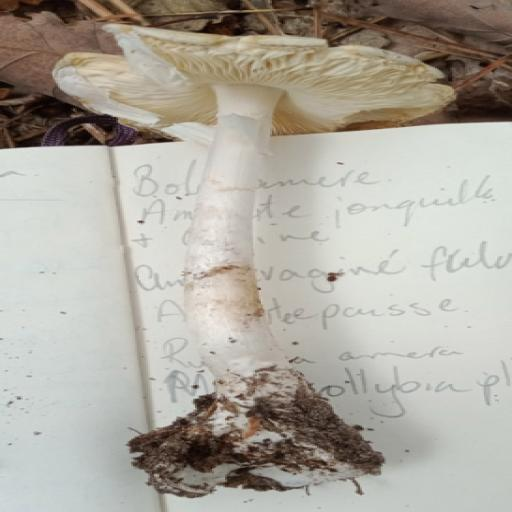mushroom: (14, 19, 443, 512)
